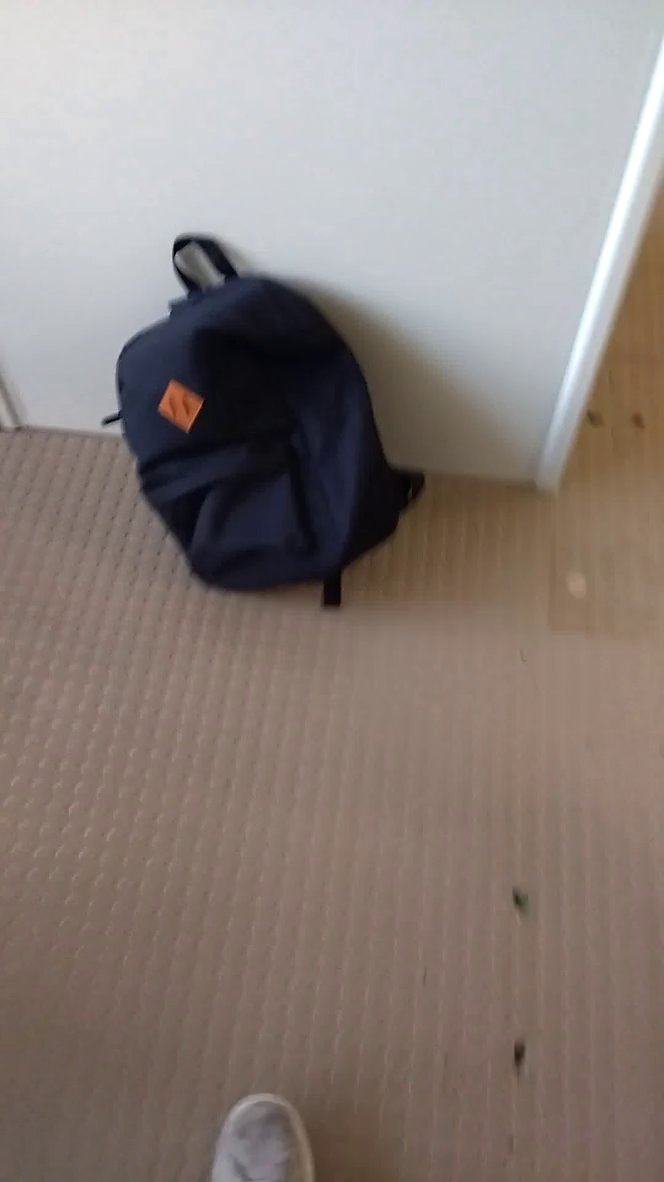bag: (76, 218, 438, 619)
